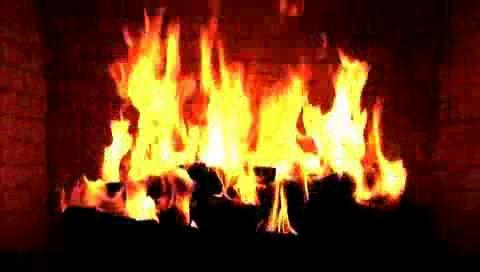fire: (75, 0, 464, 235)
